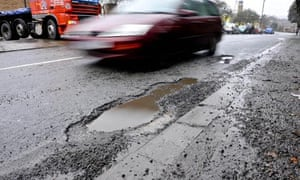pothole: (78, 77, 225, 135)
